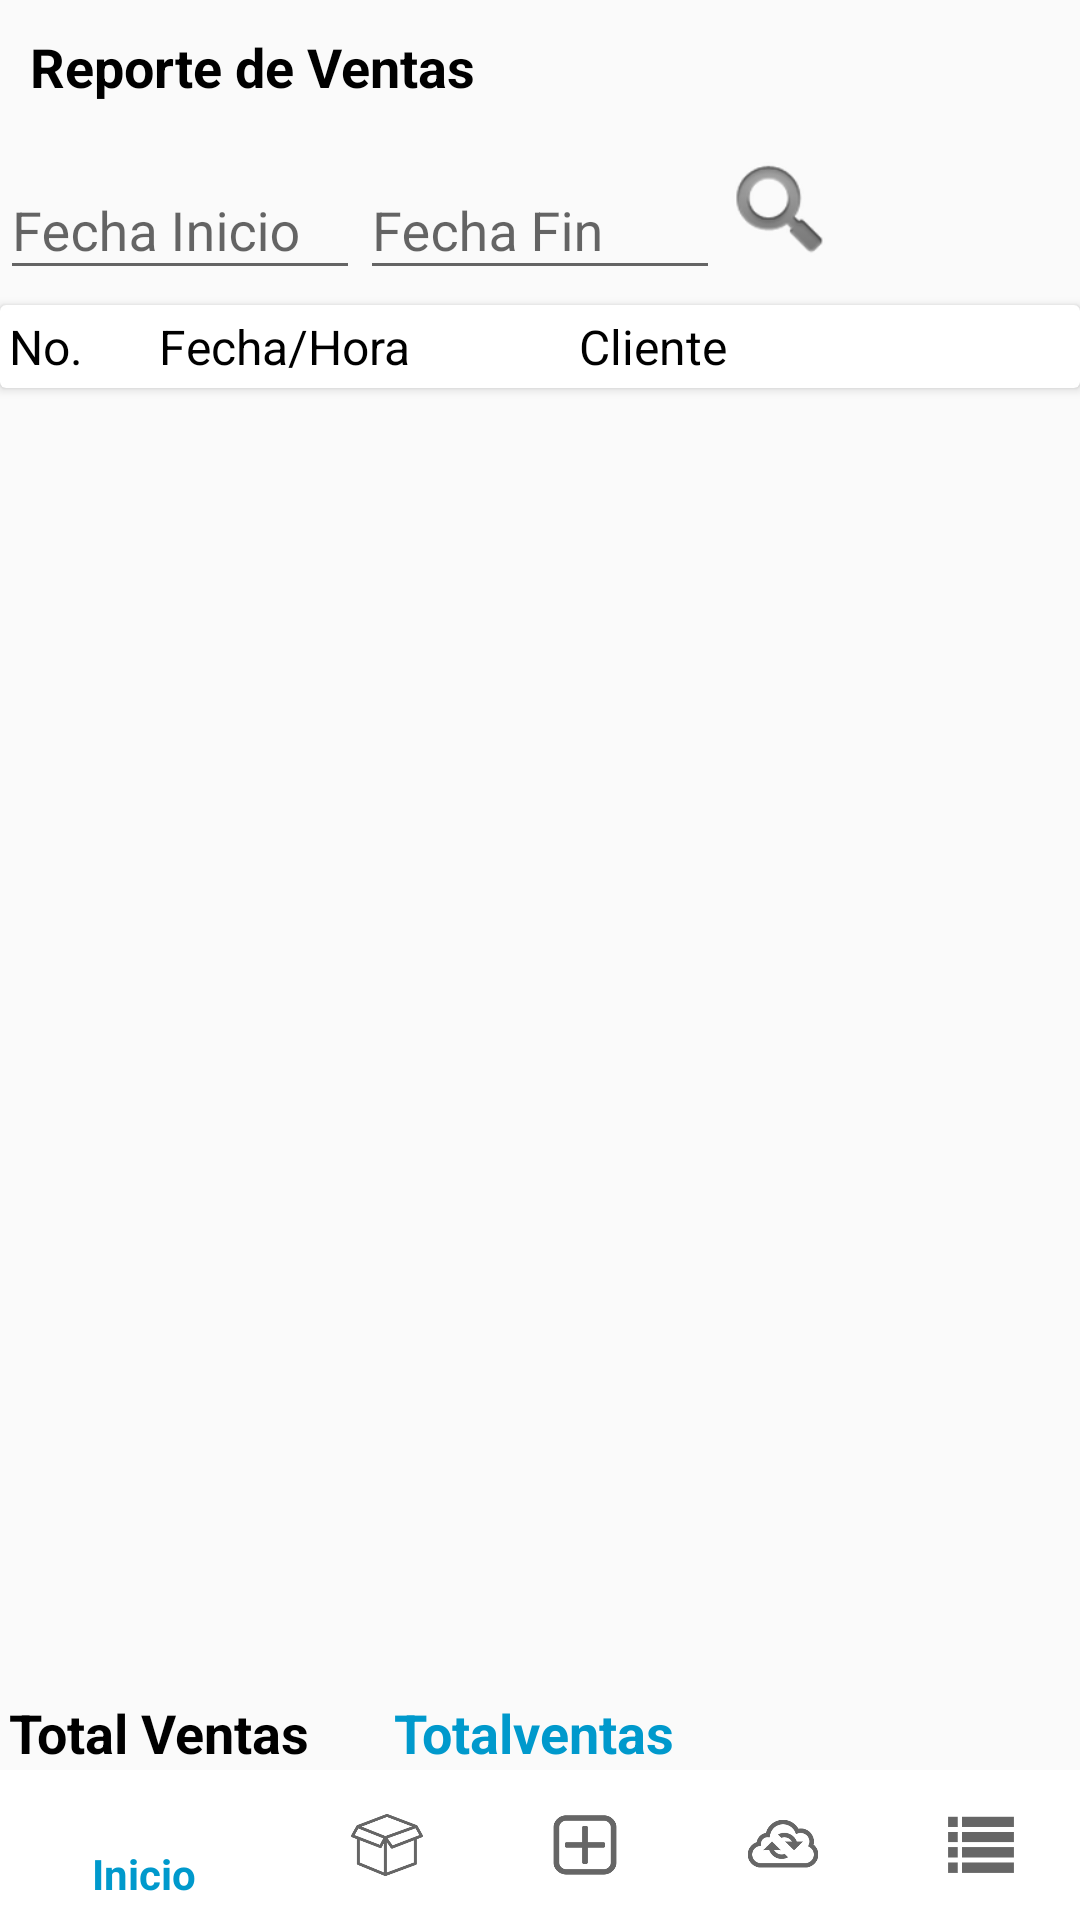

Icon click points for this 1080×1920 phone screenshot, format (x=x, y=y):
search category: (x=779, y=209)
